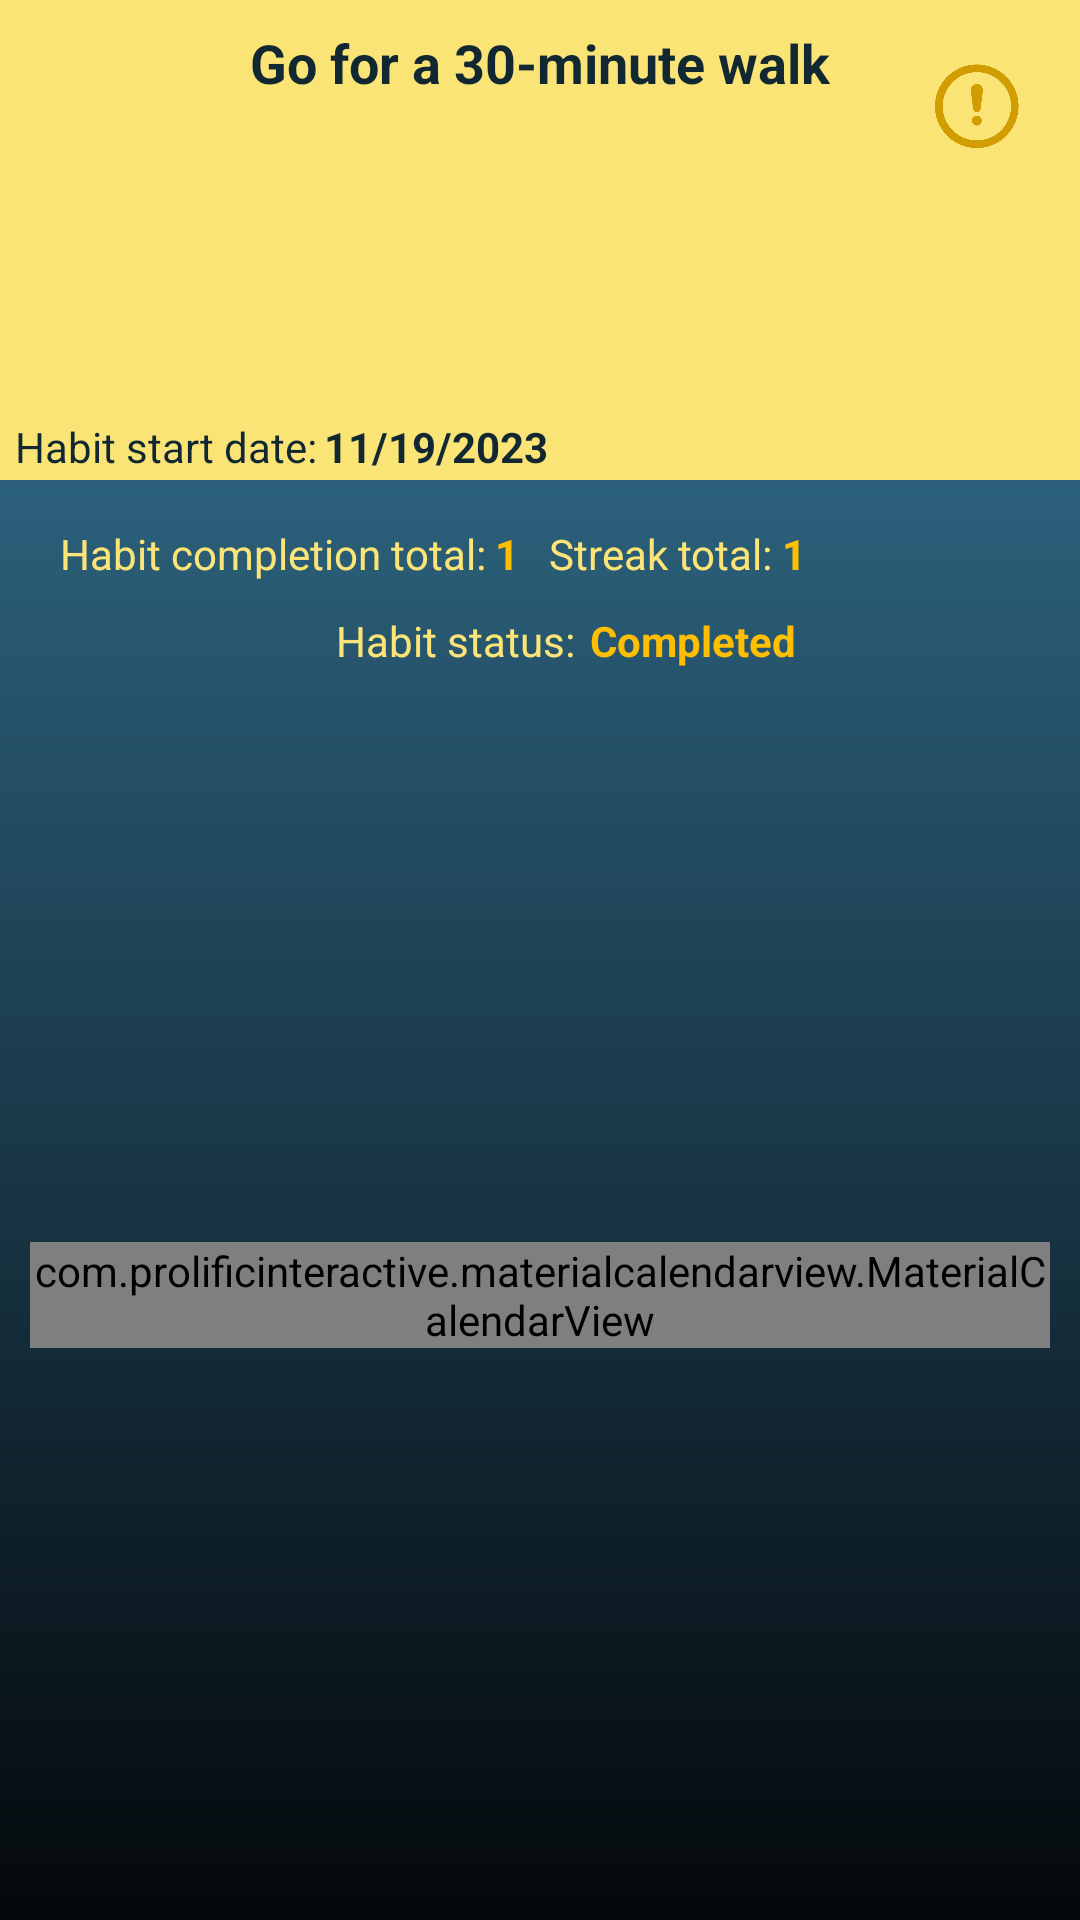

Screen size 1080 × 1920. Icon name, then its center in pixels as (x,y):
home info: (977,106)
